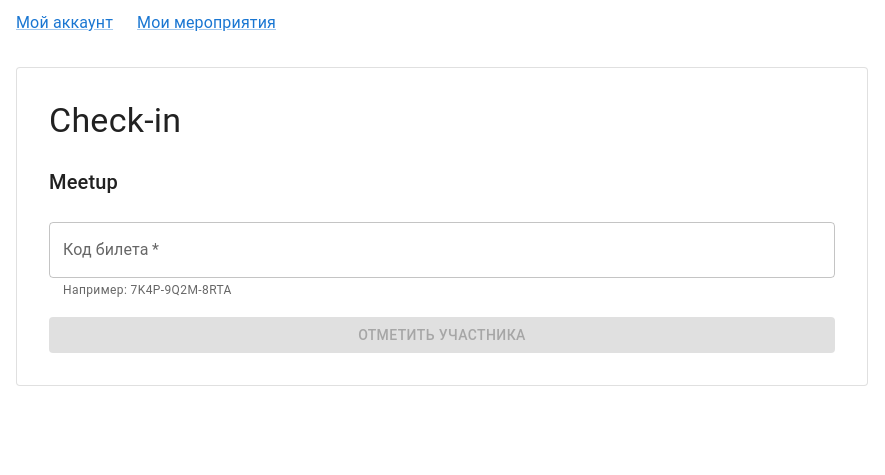
shows safe error TICKET_NOT_FOUND without retry
Type "7k4p-9q2m-8rta" into the field labelled "Код билета *" at (442, 250), box [49,222,835,278]
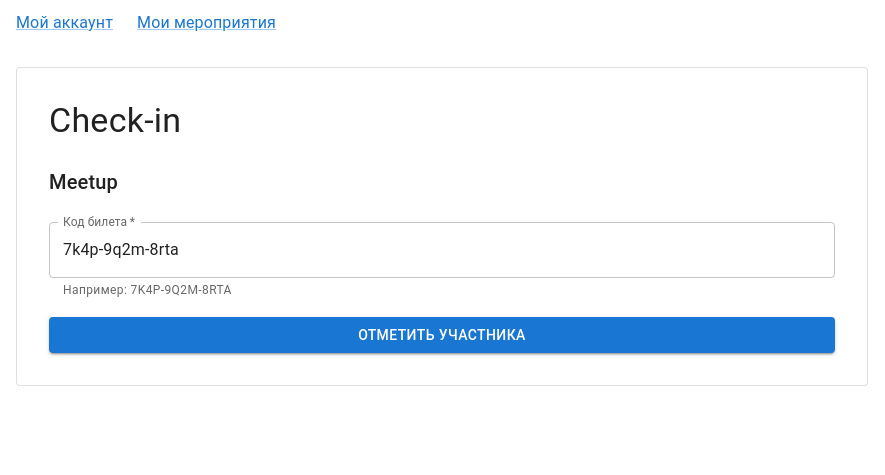
Click the button "Отметить участника" at (442, 335), box [49,317,835,353]
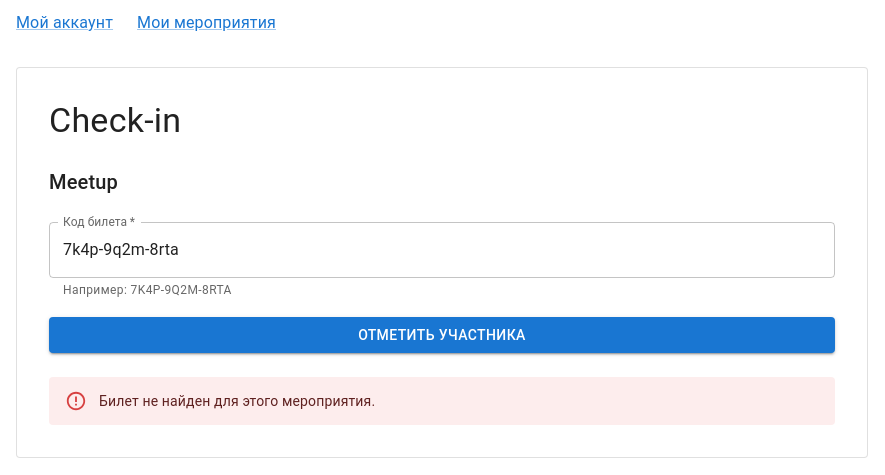
expect the message shows "Билет не найден": met, box [99,393,375,409]
